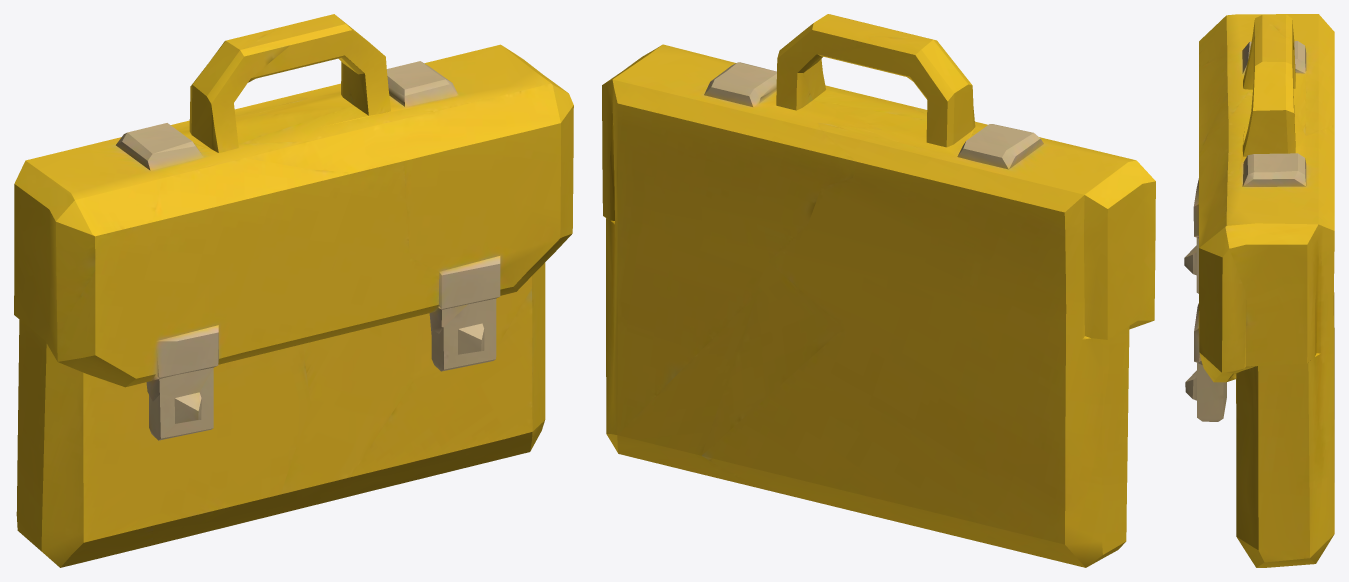
File: briefcase.glb
3 views of the same model, side by side, from view 1: azimuth 30°, elevation 25°; view 2: azimuth 150°, elevation 25°; view 3: azimuth 270°, elevation 25° (orthographic). The views are drawn at different scales.
Parts seen in each view (by area): view 1: model; view 2: model; view 3: model.
Part boxes in pixels (<box>): model: <box>14,14,573,567</box>; model: <box>602,14,1155,567</box>; model: <box>1184,14,1334,567</box>.
Size of the model in its own units: 1.9 by 1.66 by 0.5295.
Materials: 1 (1 with a texture image).
